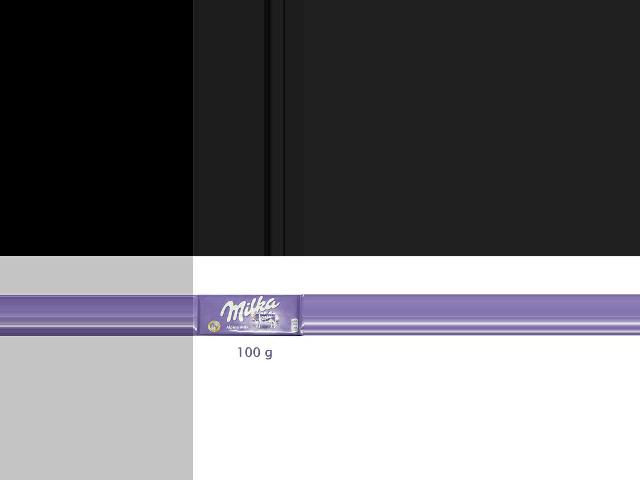chocolate: (196, 293, 305, 343)
